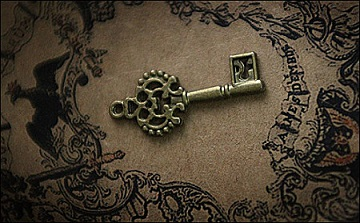key: (106, 49, 271, 139)
